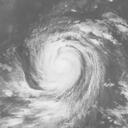cyclone: (26, 25, 103, 104)
